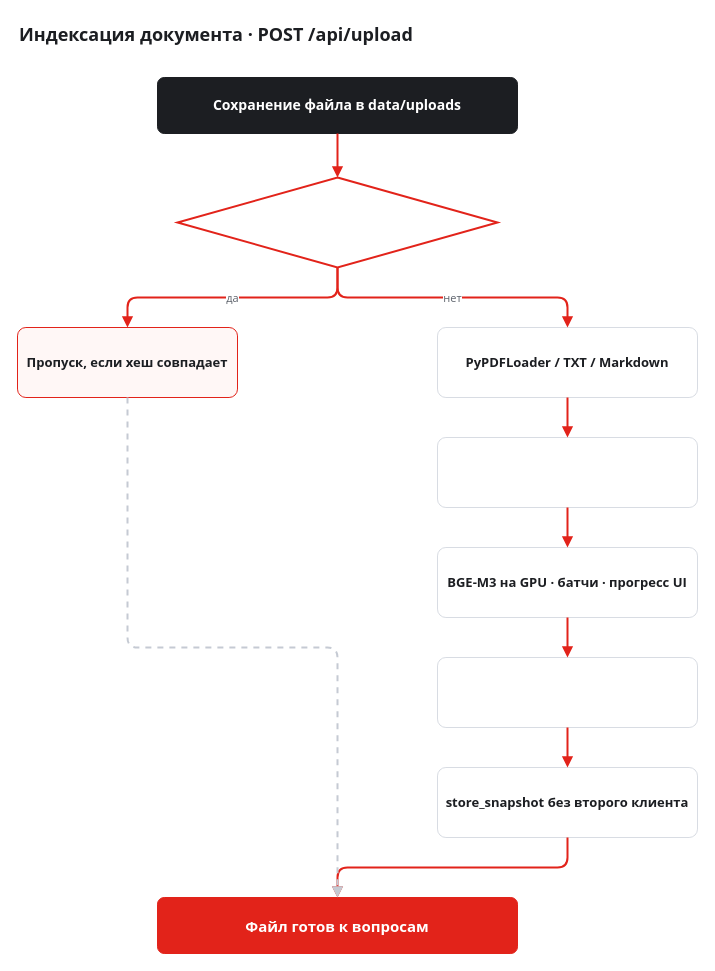
Some shapes in this 715 by 971 pixel diagram are drawn without their labels. The shapes that lost their labels are listed below. From the top down, each one's centre as x and y in pixels, then its label:
point (337, 222): SHA-256 · файл уже в индексе?
point (567, 472): RecursiveCharacterTextSplitter chunk 800 · overlap 120
point (567, 692): Chroma.add_documents filename · page · file_hash
